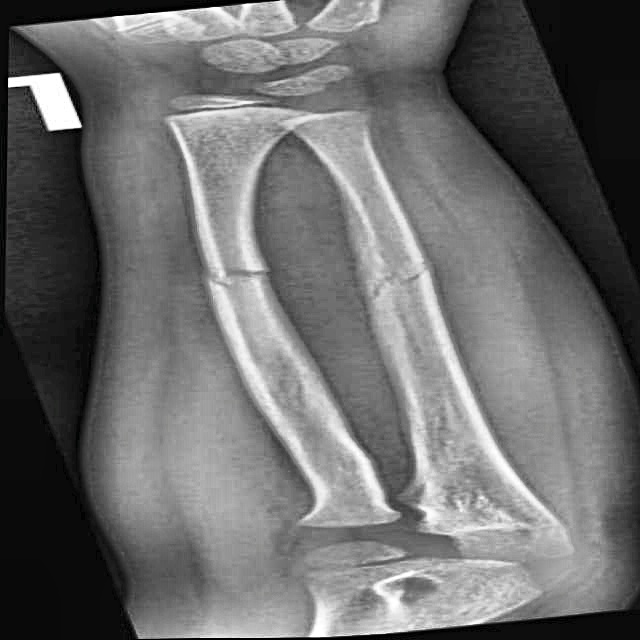Oblique Displaced: (347, 247, 459, 317)
Transverse Displaced: (161, 252, 289, 305)
